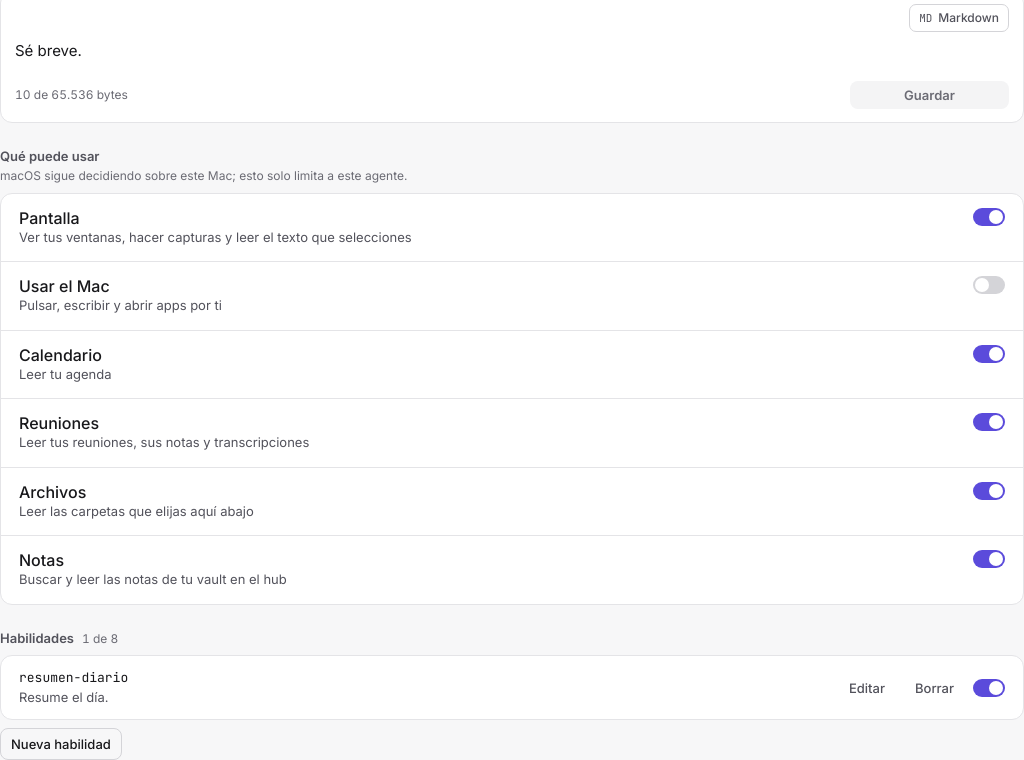
Test case: an assistant's cards › offers two ways to start a skill, and no «Pegar SKILL.md»
The width and height of the screenshot is (1024, 760).
(page scrolled)
Click the button "Nueva habilidad". click: (61, 744)
box: 0,728 -> 122,759
(page scrolled)
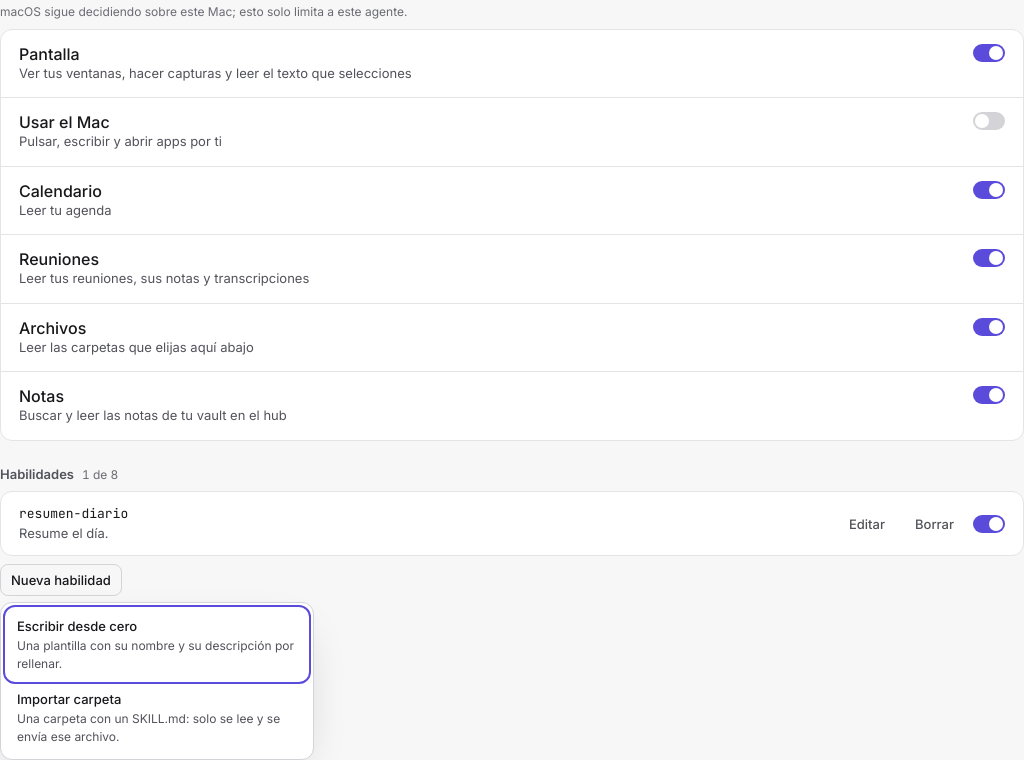
Result: the buttons read "Escribir desde ceroUna plantilla con su nombre y su descripción por rellenar.", "Importar carpetaUna carpeta con un SKILL.md: solo se lee y se envía ese archivo.", in this order at 7,609 -> 307,680; 7,682 -> 307,753
